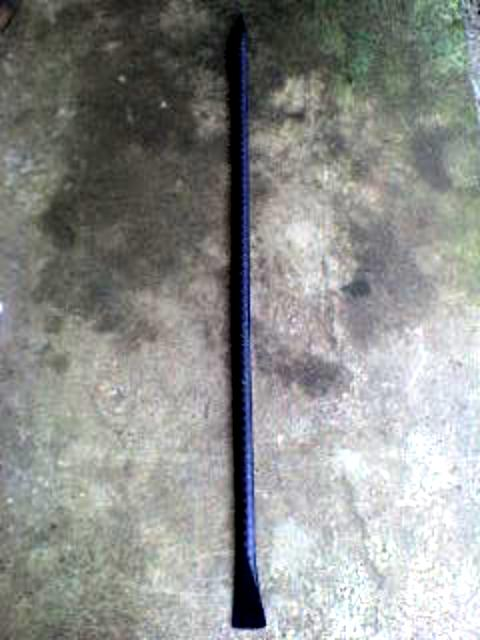crow bar: (208, 20, 282, 640)
